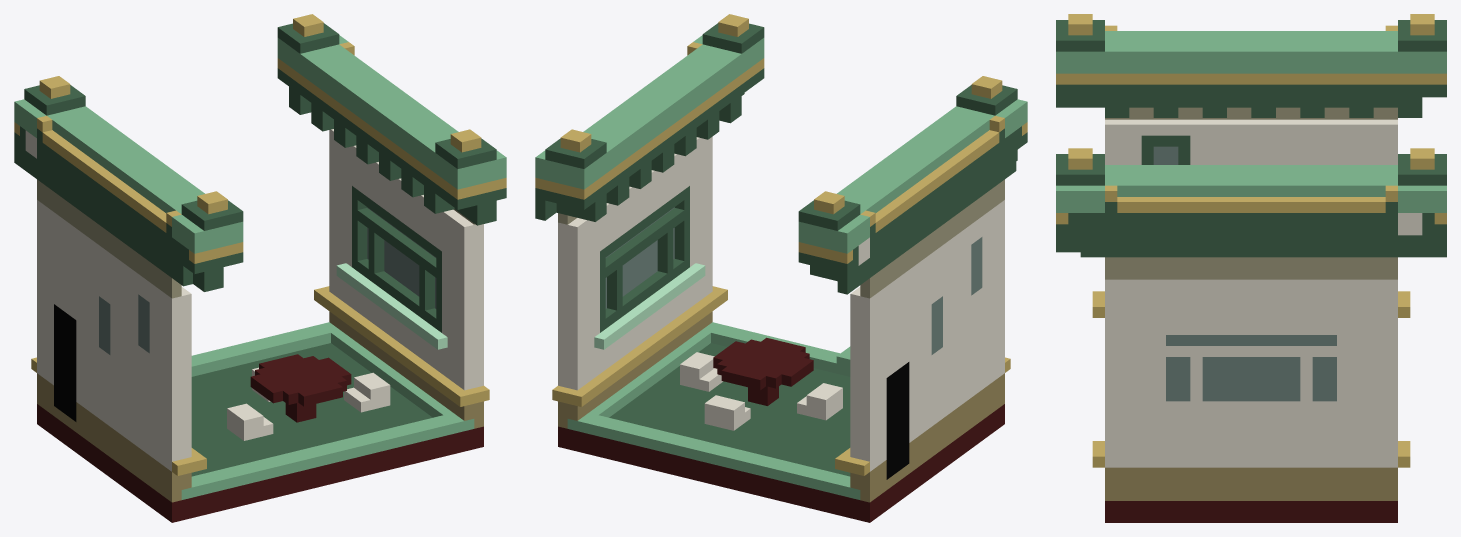
Rendered from tile_3_middle_fancy.obj.
3 views of the same model, side by side, from view 1: azimuth 30°, elevation 25°; view 2: azimuth 150°, elevation 25°; view 3: azimuth 270°, elevation 25° (orthographic). The views are drawn at different scales.
Size of the model in its own units: 3.2 by 3.2 by 3.2.
